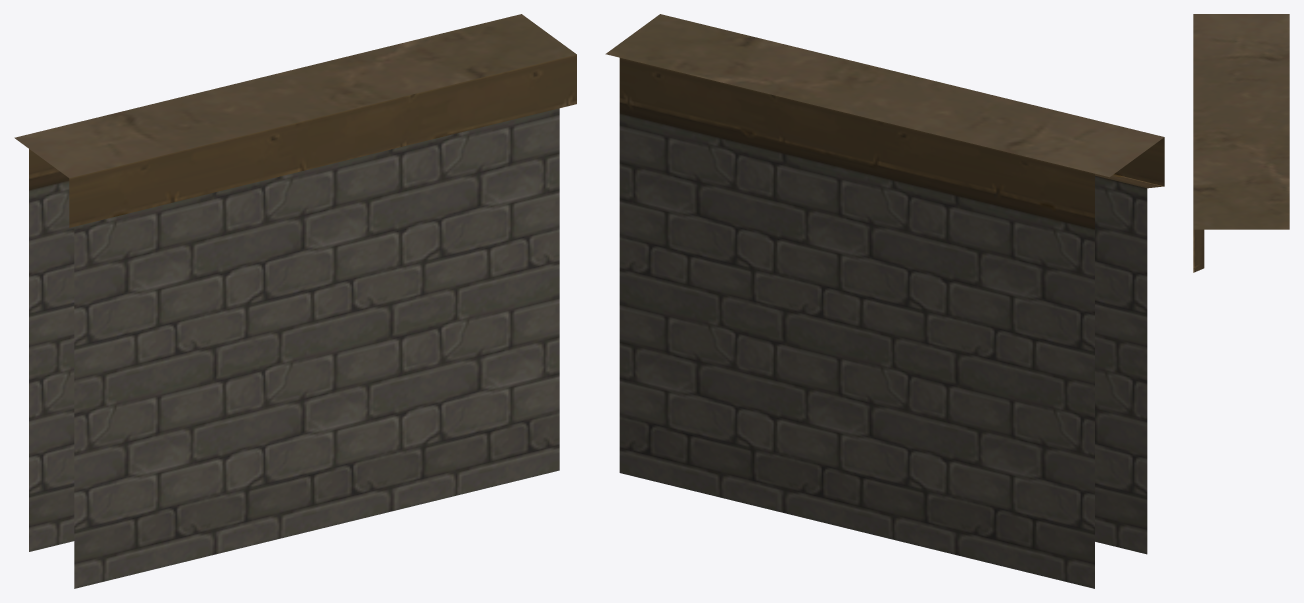
File: Battle06_Wall_07.FBX
3 renders of one model, left to right at view 1: azimuth 30°, elevation 25°; view 2: azimuth 150°, elevation 25°; view 3: azimuth 270°, elevation 25°, orthographic. The views are drawn at different scales.
Visible parts, largest first — view 1: Battle06_Wall_07; view 2: Battle06_Wall_07; view 3: Battle06_Wall_07.
Boxes of the visible parts, x1,y1,x2,y2 form: Battle06_Wall_07: [14, 14, 576, 588]; Battle06_Wall_07: [605, 14, 1164, 588]; Battle06_Wall_07: [1193, 14, 1289, 272].
Bounding box in the file's own units: 11.77 × 9.26 × 2.22.
